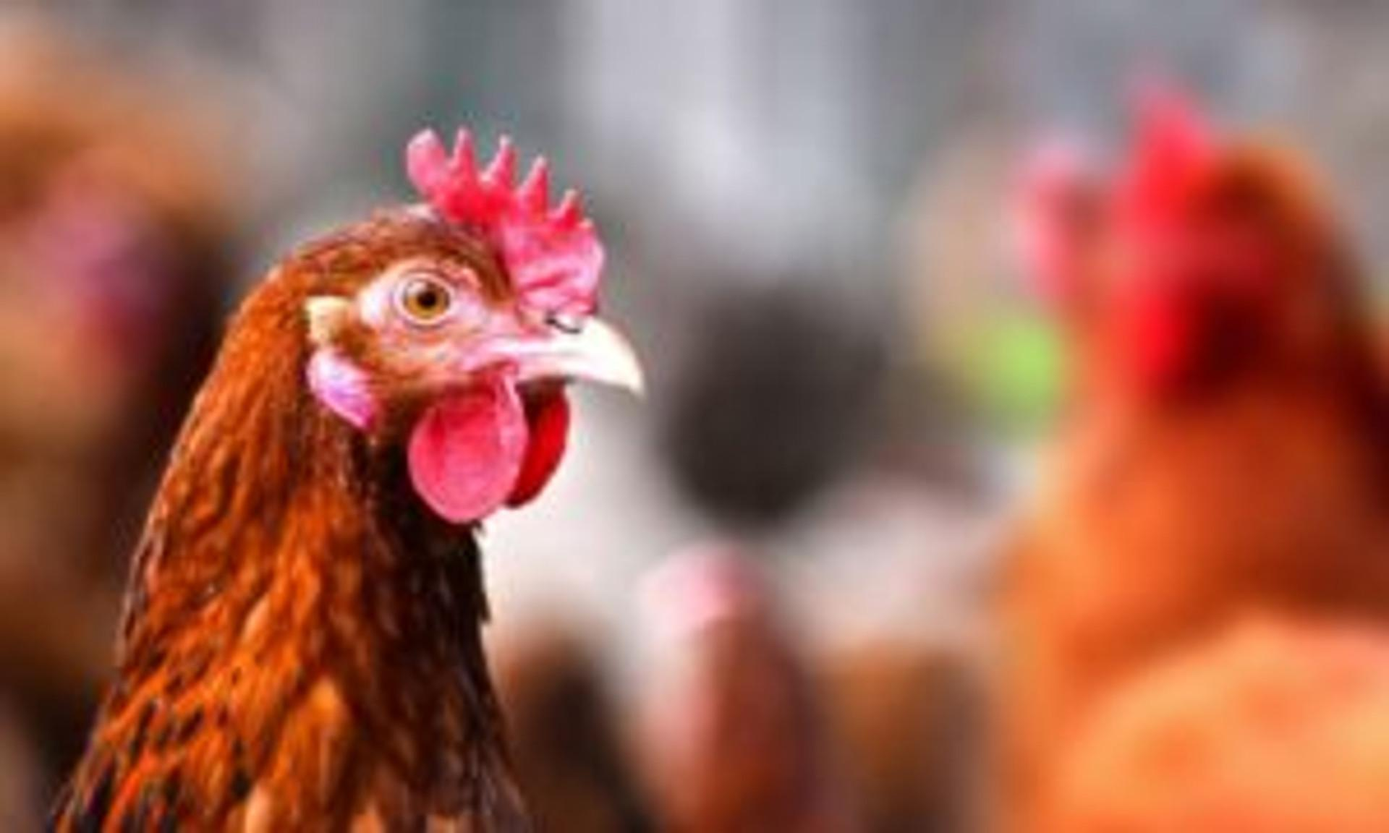AbNormal: (407, 127, 601, 332)
